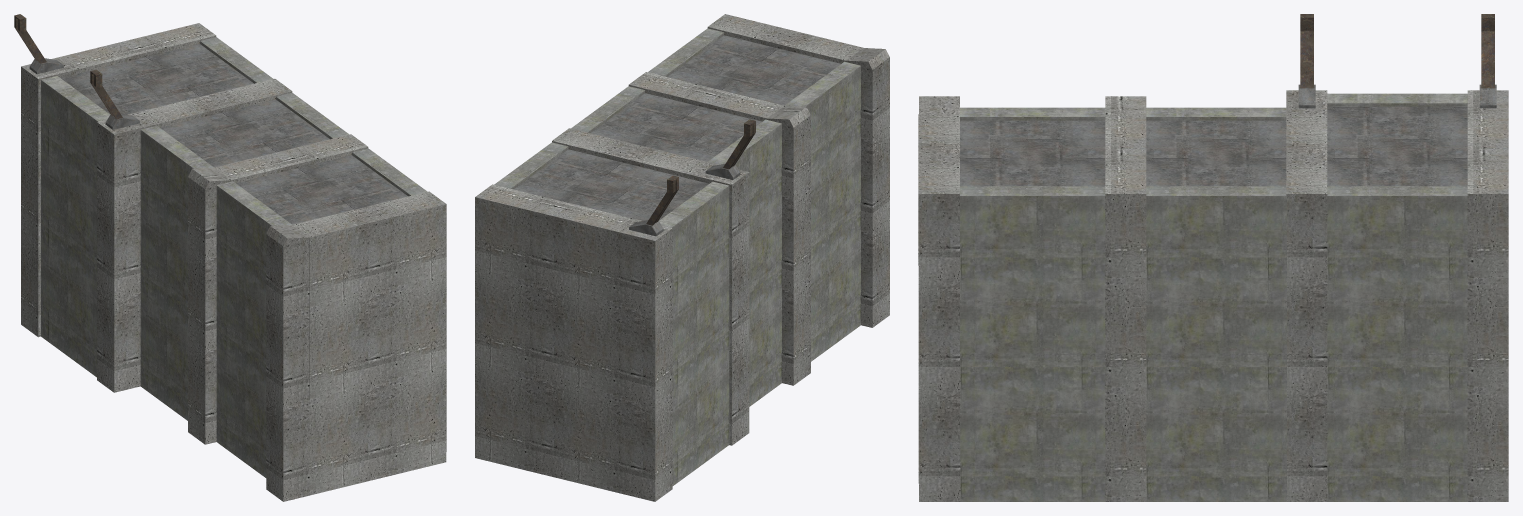
The model's file is block3.fbx.
The picture shows the model from 3 angles, left to right: view 1: azimuth 30°, elevation 25°; view 2: azimuth 150°, elevation 25°; view 3: azimuth 270°, elevation 25°; orthographic projection. The views are drawn at different scales.
Parts seen in each view (by area): view 1: Object.001; view 2: Object.001; view 3: Object.001.
Boxes of the visible parts, x1,y1,x2,y2 form: Object.001: [14, 14, 446, 501]; Object.001: [475, 14, 889, 501]; Object.001: [918, 14, 1508, 501].
Size of the model in its own units: 3475 by 5512 by 7819.
